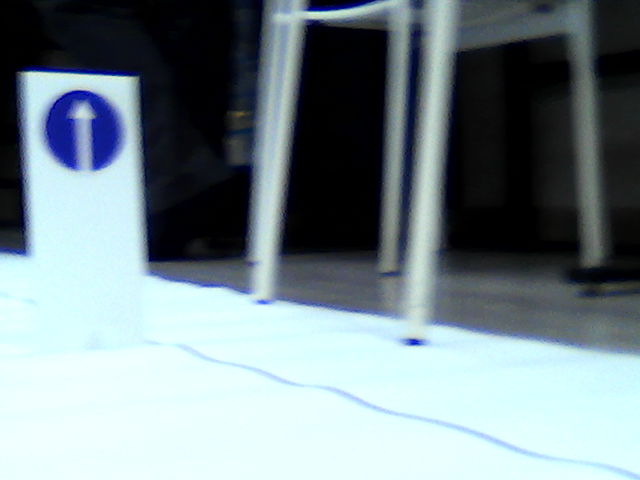forw: (40, 85, 133, 180)
